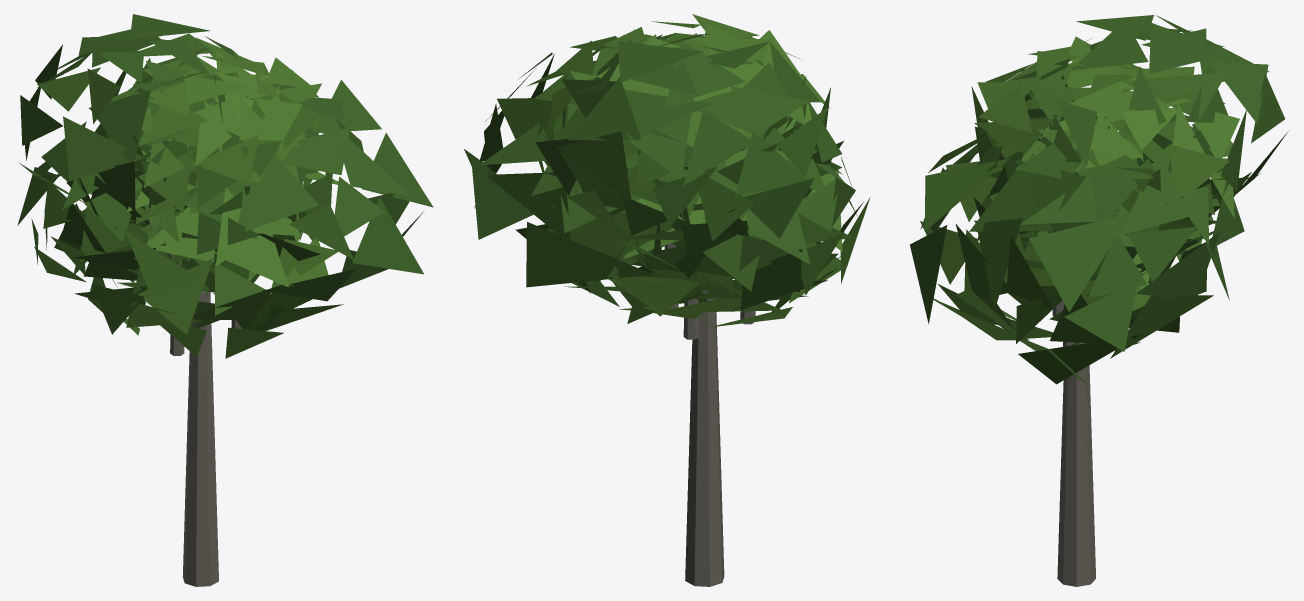
File: beech_b.glb
The picture shows the model from 3 angles, left to right: view 1: azimuth 30°, elevation 25°; view 2: azimuth 150°, elevation 25°; view 3: azimuth 270°, elevation 25°; orthographic projection. The views are drawn at different scales.
Parts seen in each view (by area): view 1: beech; view 2: beech; view 3: beech.
Boxes of the visible parts, box(x1,y1,x2,y2) form: beech: box(17, 14, 433, 586); beech: box(464, 14, 870, 586); beech: box(910, 15, 1288, 586).
Size of the model in its own units: 9.46 by 13.03 by 8.48.
